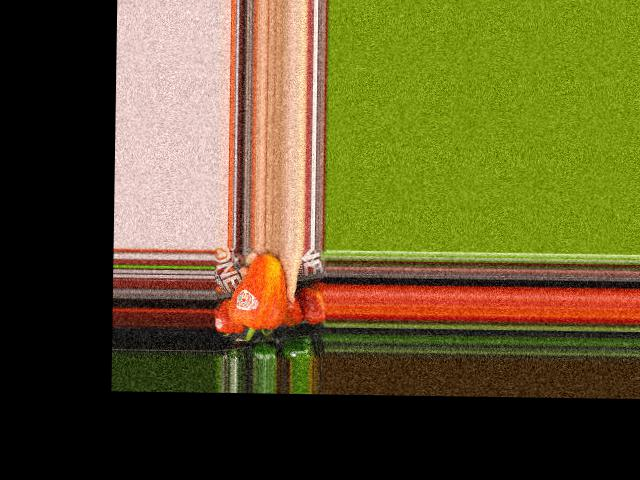bell_pepper: (226, 254, 294, 343)
